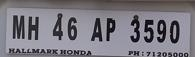0: (169, 18, 182, 44)
3: (127, 17, 141, 43)
4: (51, 15, 65, 41)
5: (143, 17, 155, 44)
6: (66, 15, 80, 42)
9: (156, 17, 168, 44)
A: (88, 15, 104, 43)
H: (26, 14, 42, 42)
M: (10, 13, 28, 42)
P: (104, 16, 119, 43)
